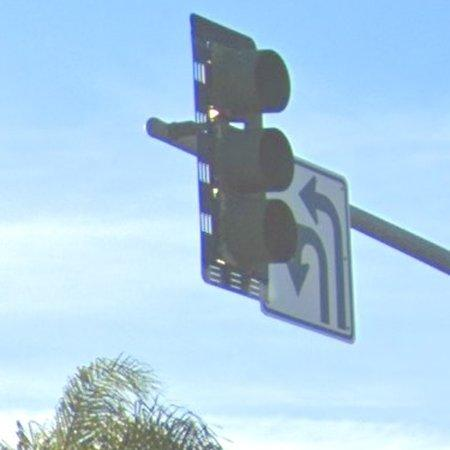traffic lights: (191, 14, 297, 300)
